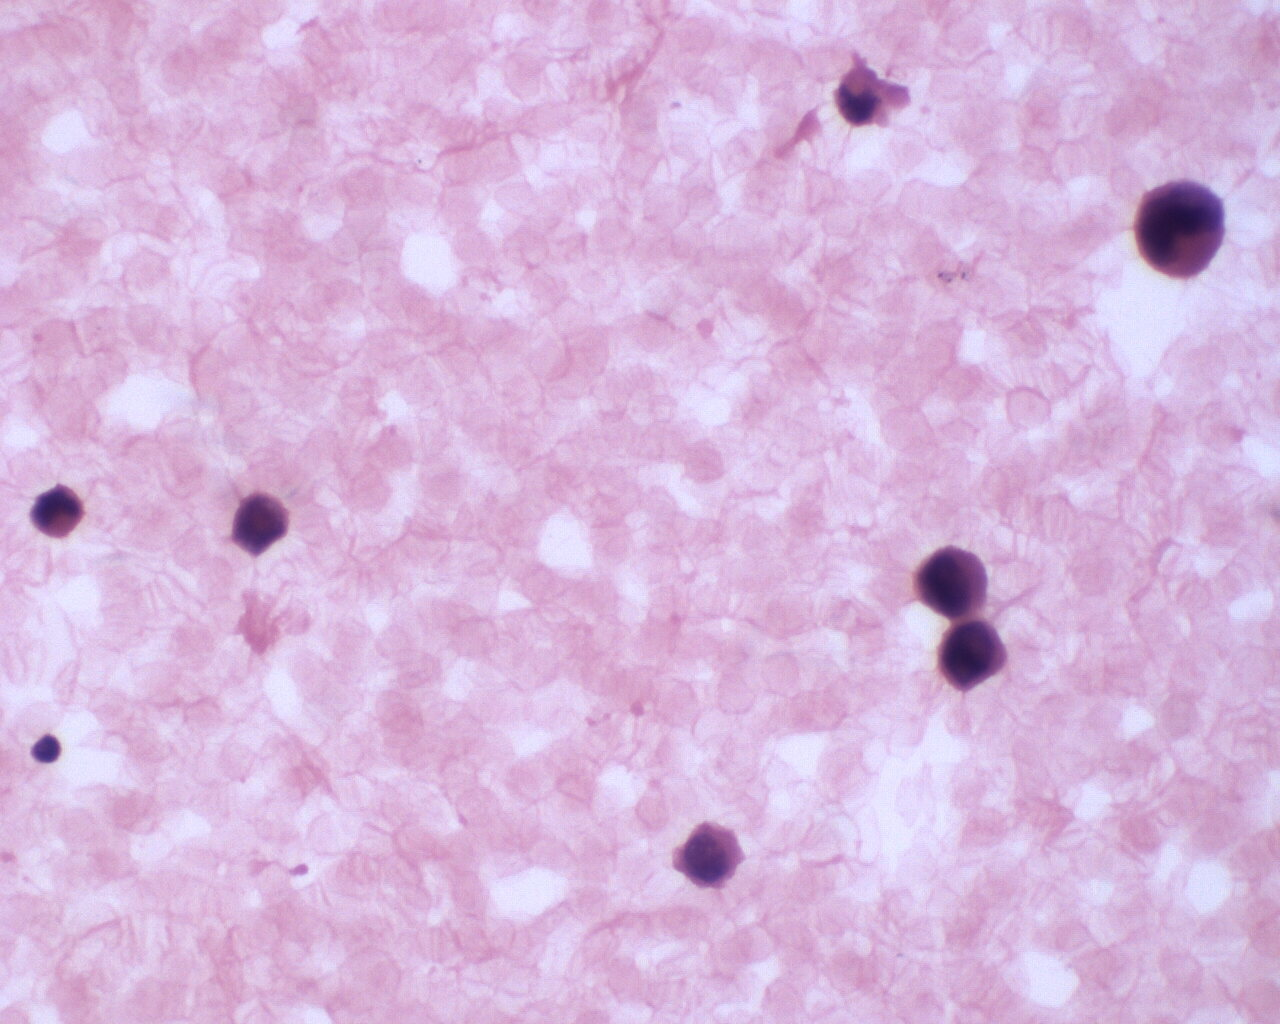ab: (1130, 176, 1230, 283), (904, 544, 995, 623), (934, 614, 1015, 695), (674, 815, 751, 895), (227, 492, 295, 560)
